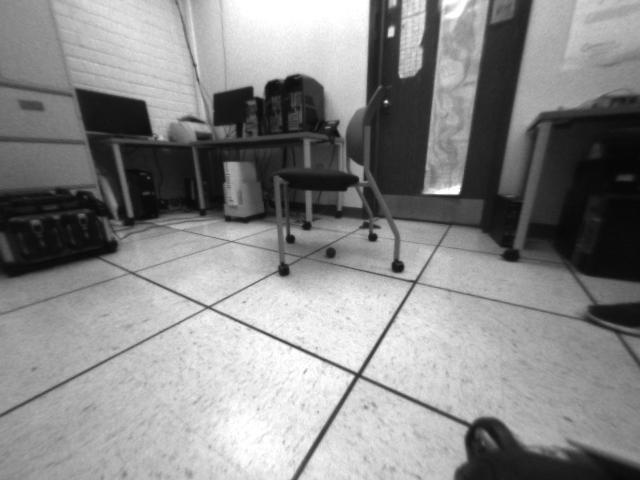dogtoy: (322, 240, 340, 263)
